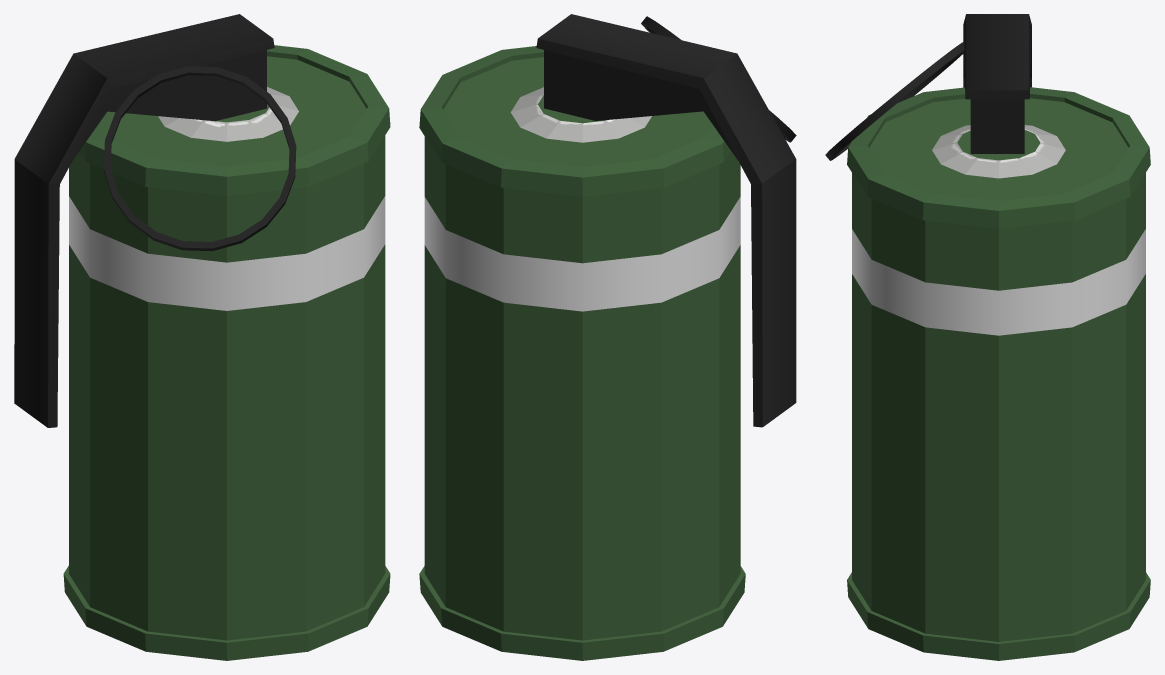
Rendered from Smoke Grenade Final.FBX.
The picture shows the model from 3 angles, left to right: view 1: azimuth 30°, elevation 25°; view 2: azimuth 150°, elevation 25°; view 3: azimuth 270°, elevation 25°; orthographic projection. The views are drawn at different scales.
Parts seen in each view (by area): view 1: Cylinder001, Box001, Tube001; view 2: Cylinder001, Box001, Tube001; view 3: Cylinder001, Box001, Tube001.
Boxes of the visible parts, box(x1,y1,x2,y2) form: Cylinder001: box(63, 45, 390, 660); Box001: box(14, 14, 274, 427); Tube001: box(104, 66, 296, 251); Cylinder001: box(419, 46, 745, 660); Box001: box(536, 14, 796, 427); Tube001: box(641, 16, 796, 142); Cylinder001: box(847, 87, 1150, 660); Box001: box(963, 14, 1031, 153); Tube001: box(825, 42, 964, 160).
Bounding box in the file's own units: 14.81 × 23.53 × 13.29.
